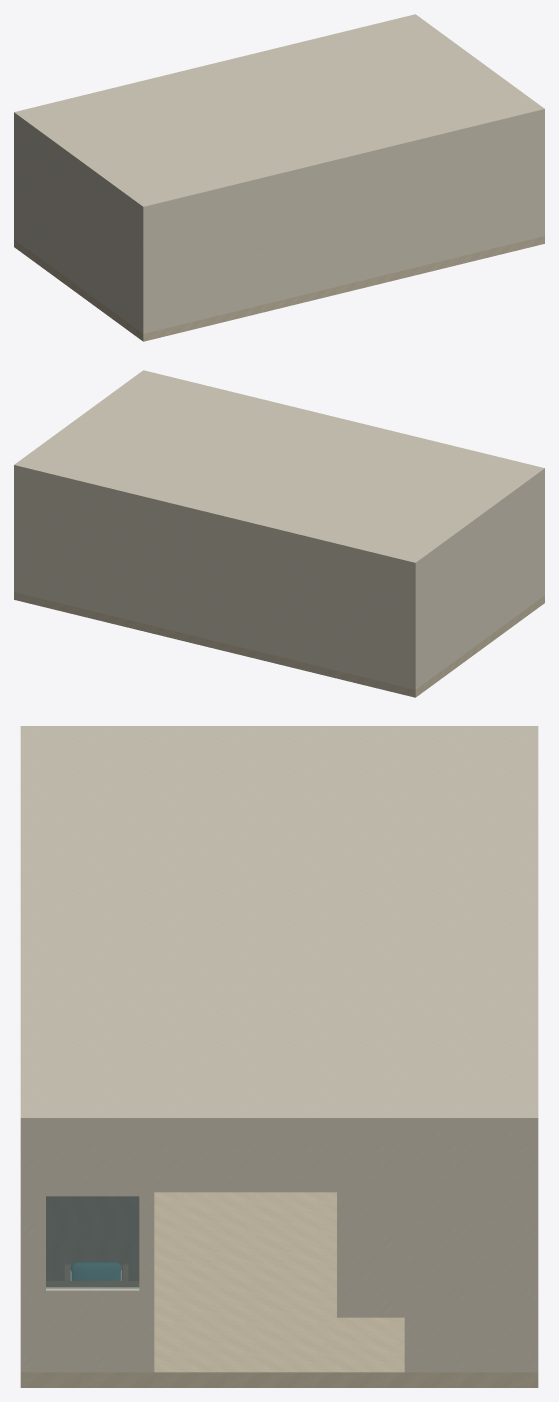
The model's file is StarAtlasSpecialty_121.glb.
The picture shows the model from 3 angles, top to bottom: view 1: azimuth 30°, elevation 25°; view 2: azimuth 150°, elevation 25°; view 3: azimuth 270°, elevation 25°; orthographic projection. The views are drawn at different scales.
Visible parts, largest first — view 1: SA121_Ceiling, SA121_NorthSide, SA121_OpaqueRearBoundary, SA121_RoomFloor; view 2: SA121_Ceiling, SA121_SouthSide, SA121_OpaqueRearBoundary, SA121_RoomFloor; view 3: SA121_Ceiling, SA121_RoomFloor, SA121_EntryShoulderSouth, SA121_EntryHeader, SA121_StreetWindowLower, SA121_ScreenedStreetGlass, SA121_WashEntrySide, SA121_StreetWindowUpper, SA121_EntryPrivacyDogleg, SA121_NorthSide, SA121_SouthSide, SA121_StreetWindowOuterPier (+2 smaller).
Boxes of the visible parts, x1,y1,x2,y2 form: SA121_Ceiling: [14, 14, 544, 211]; SA121_NorthSide: [141, 114, 544, 333]; SA121_OpaqueRearBoundary: [16, 119, 141, 331]; SA121_RoomFloor: [14, 236, 544, 341]; SA121_Ceiling: [14, 370, 544, 567]; SA121_SouthSide: [14, 470, 417, 689]; SA121_OpaqueRearBoundary: [417, 475, 542, 687]; SA121_RoomFloor: [14, 592, 544, 697]; SA121_Ceiling: [20, 726, 538, 1128]; SA121_RoomFloor: [20, 1192, 538, 1387]; SA121_EntryShoulderSouth: [404, 1128, 529, 1372]; SA121_EntryHeader: [150, 1128, 408, 1192]; SA121_StreetWindowLower: [29, 1287, 154, 1372]; SA121_ScreenedStreetGlass: [46, 1196, 139, 1288]; SA121_WashEntrySide: [337, 1192, 404, 1317]; SA121_StreetWindowUpper: [29, 1128, 154, 1196]; SA121_EntryPrivacyDogleg: [46, 1196, 138, 1280]; SA121_NorthSide: [20, 1128, 29, 1372]; SA121_SouthSide: [529, 1128, 538, 1372]; SA121_StreetWindowOuterPier: [29, 1196, 45, 1290].
Size of the model in its own units: 12.9 by 4.14 by 7.2.
Materials: 64 (49 with a texture image).
